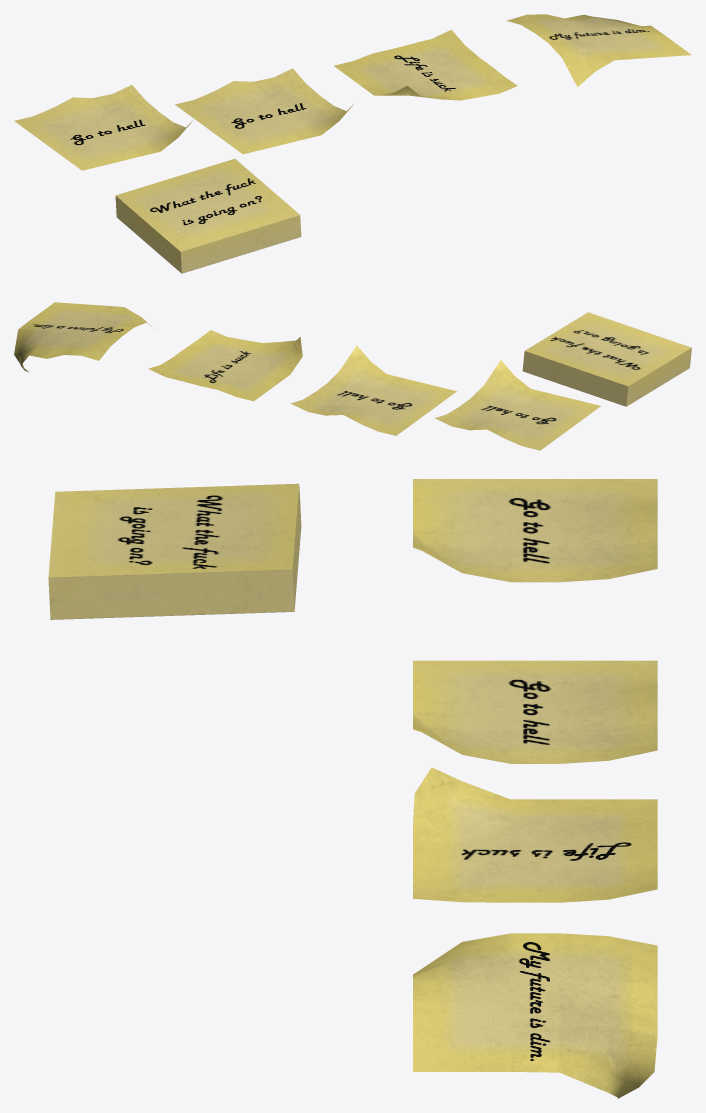
Rendered from memo7.fbx.
3 renders of one model, top to bottom at view 1: azimuth 30°, elevation 25°; view 2: azimuth 150°, elevation 25°; view 3: azimuth 270°, elevation 25°, orthographic. The views are drawn at different scales.
Visible parts, largest first — view 1: SM_post_it_notes.001, SM_post_it_notes, SM_post_it_notes.004, SM_post_it_notes.002, SM_post_it_notes.003; view 2: SM_post_it_notes.001, SM_post_it_notes.004, SM_post_it_notes, SM_post_it_notes.002, SM_post_it_notes.003; view 3: SM_post_it_notes.003, SM_post_it_notes.001, SM_post_it_notes.002, SM_post_it_notes, SM_post_it_notes.004.
Part boxes in pixels (box(x1,y1,x2,y2)): SM_post_it_notes.001: box(115, 158, 301, 273); SM_post_it_notes: box(175, 68, 354, 154); SM_post_it_notes.004: box(14, 85, 193, 170); SM_post_it_notes.002: box(333, 29, 517, 100); SM_post_it_notes.003: box(506, 14, 691, 87); SM_post_it_notes.001: box(522, 312, 691, 406); SM_post_it_notes.004: box(435, 360, 600, 450); SM_post_it_notes: box(291, 345, 456, 435); SM_post_it_notes.002: box(148, 330, 302, 401); SM_post_it_notes.003: box(14, 302, 154, 372); SM_post_it_notes.003: box(413, 933, 657, 1098); SM_post_it_notes.001: box(48, 483, 301, 619); SM_post_it_notes.002: box(413, 767, 657, 902); SM_post_it_notes: box(413, 660, 657, 763); SM_post_it_notes.004: box(413, 479, 657, 582).
Size of the model in its own units: 39.33 by 5.34 by 18.94.
1 material, 1 textured.
